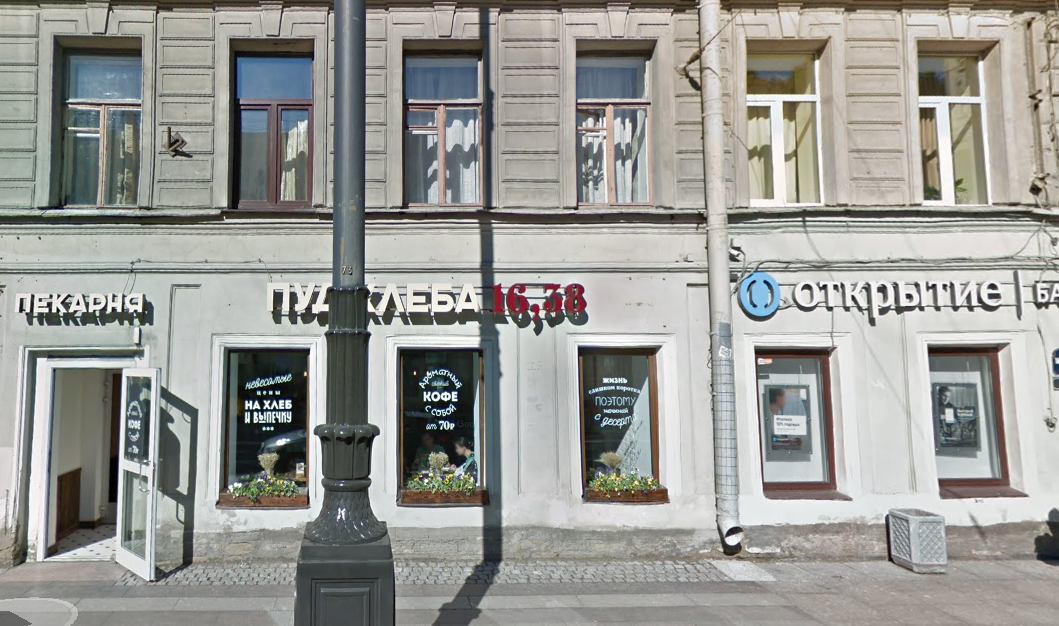door: (31, 354, 159, 582)
signboard: (735, 256, 1059, 325), (263, 274, 607, 328), (13, 282, 148, 326)
window: (395, 344, 487, 501), (224, 349, 310, 504), (917, 51, 1000, 205), (746, 50, 824, 208), (228, 54, 310, 204), (574, 51, 654, 204), (926, 345, 1012, 482), (404, 50, 479, 206), (756, 346, 837, 489), (67, 48, 138, 211), (578, 345, 657, 488)
